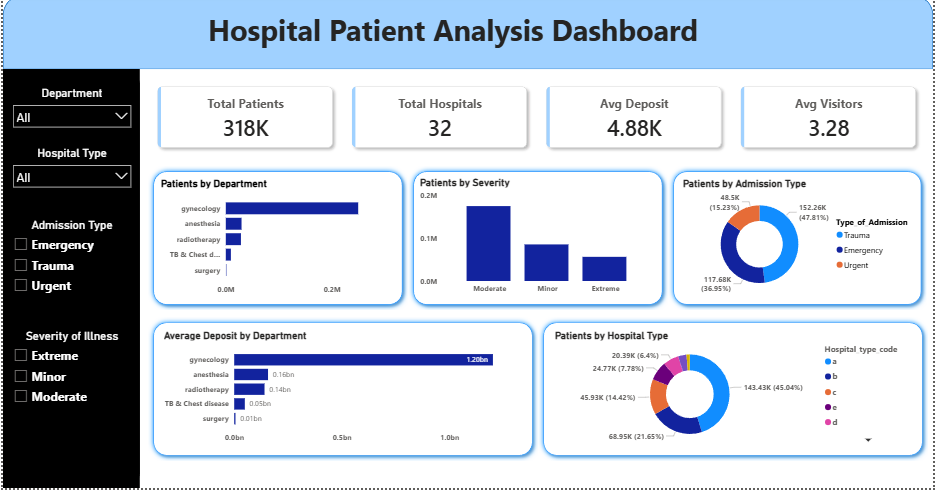

Layout of this report page (visuals, bound fields, positions):
{"tool":"powerbi","page":{"name":"Page 1","canvas":[1550,820],"ordinal":0},"visuals":[{"type":"cardVisual","fields":{"Data":["hospital_data.Total Patients","hospital_data.Total Hospitals","hospital_data.Avg Deposit","hospital_data.Avg Visitors"]},"box":[227.8,122,1322.2,160.7],"z":0},{"type":"shape","box":[0,0,1550,122],"z":1000},{"type":"textbox","box":[228.3,17.7,1043.3,84.6],"z":2000},{"type":"shape","box":[0,122,228.3,698.8],"z":3000},{"type":"shape","box":[242.1,283.5,433.1,240.2],"z":4000},{"type":"shape","box":[675.2,283.5,433.1,240.2],"z":5000},{"type":"shape","box":[1108.6,282.7,431.2,240],"z":6000},{"type":"shape","box":[241.7,535,650,240],"z":7000},{"type":"clusteredBarChart","title":"Patients by Department","fields":{"Category":["hospital_data.Department"],"Y":["CountNonNull(hospital_data.case_id)"]},"box":[258.3,301.7,398.3,205],"z":8000},{"type":"donutChart","title":"Patients by Admission Type","fields":{"Category":["hospital_data.Type_of_Admission"],"Y":["CountNonNull(hospital_data.case_id)"]},"box":[1128.3,301.7,390,205],"z":9000},{"type":"columnChart","title":"Patients by Severity","fields":{"Category":["hospital_data.Severity_of_Illness"],"Y":["CountNonNull(hospital_data.case_id)"]},"box":[690,300,396.7,205],"z":10000},{"type":"shape","box":[891.7,535,650,240],"z":11000},{"type":"clusteredBarChart","title":"Average Deposit by Department","fields":{"Category":["hospital_data.Department"],"Y":["Sum(hospital_data.Admission_Deposit)"]},"box":[263.3,555,605,198.3],"z":12000},{"type":"donutChart","title":"Patients by Hospital Type","fields":{"Category":["hospital_data.Hospital_type_code"],"Y":["CountNonNull(hospital_data.case_id)"]},"box":[915,555,603.3,198.3],"z":13000},{"type":"slicer","title":"Department","fields":{"Values":["hospital_data.Department"]},"box":[6.7,150,216.7,101.7],"z":14000},{"type":"slicer","title":"Hospital Type","fields":{"Values":["hospital_data.Hospital_type_code"]},"box":[6.7,250,216.7,101.7],"z":15000},{"type":"slicer","title":"Admission Type","fields":{"Values":["hospital_data.Type_of_Admission"]},"box":[6.7,370,216.7,165],"z":16000},{"type":"slicer","title":"Severity of Illness","fields":{"Values":["hospital_data.Severity_of_Illness"]},"box":[6.7,555,216.7,165],"z":16001}]}

Visuals, with their boxes in screenshot pixels (x1, y1, x2, y2), scaled from the page's 1550x820 canvas onto the 937x491 screenshot:
cardVisual - hospital_data.Total Patients x hospital_data.Total Hospitals: [x1=138, y1=73, x2=936, y2=169]
shape: [x1=0, y1=0, x2=936, y2=73]
textbox: [x1=138, y1=11, x2=769, y2=61]
shape: [x1=0, y1=73, x2=138, y2=490]
shape: [x1=146, y1=170, x2=408, y2=314]
shape: [x1=408, y1=170, x2=670, y2=314]
shape: [x1=670, y1=169, x2=931, y2=313]
shape: [x1=146, y1=320, x2=539, y2=464]
"Patients by Department" clusteredBarChart: [x1=156, y1=181, x2=397, y2=303]
"Patients by Admission Type" donutChart: [x1=682, y1=181, x2=918, y2=303]
"Patients by Severity" columnChart: [x1=417, y1=180, x2=657, y2=302]
shape: [x1=539, y1=320, x2=932, y2=464]
"Average Deposit by Department" clusteredBarChart: [x1=159, y1=332, x2=525, y2=451]
"Patients by Hospital Type" donutChart: [x1=553, y1=332, x2=918, y2=451]
"Department" slicer: [x1=4, y1=90, x2=135, y2=151]
"Hospital Type" slicer: [x1=4, y1=150, x2=135, y2=211]
"Admission Type" slicer: [x1=4, y1=222, x2=135, y2=320]
"Severity of Illness" slicer: [x1=4, y1=332, x2=135, y2=431]
